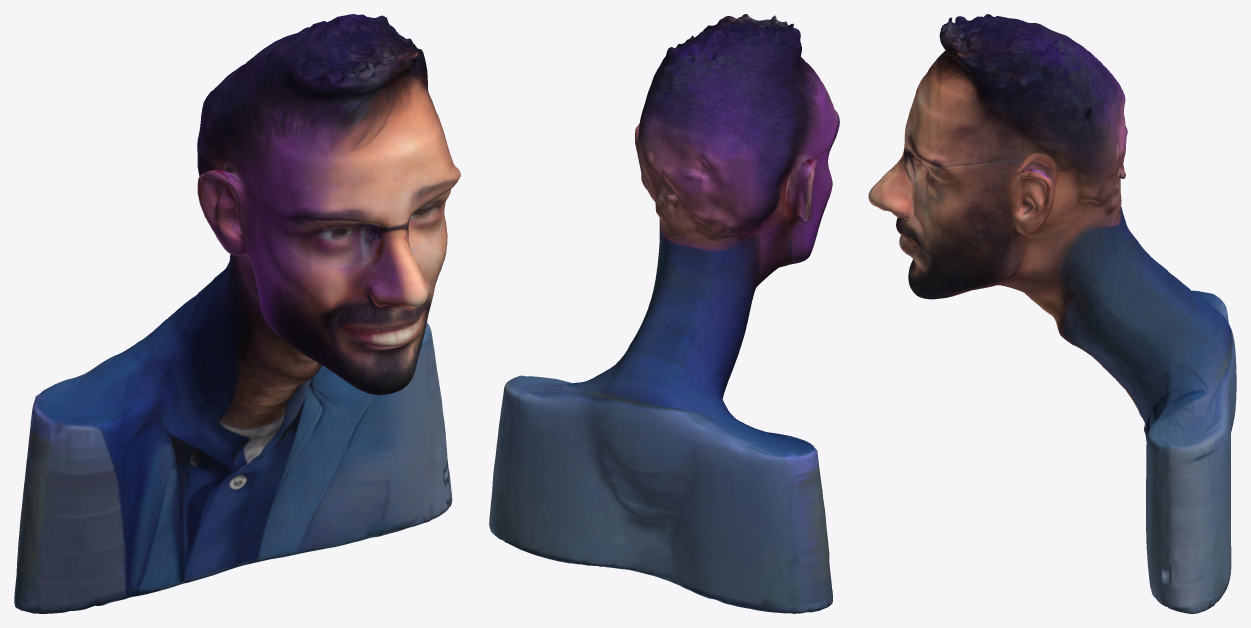
File: vig3d2.glb
3 views of the same model, side by side, from view 1: azimuth 30°, elevation 25°; view 2: azimuth 150°, elevation 25°; view 3: azimuth 270°, elevation 25° (orthographic). The views are drawn at different scales.
Bounding box in the file's own units: 1.47 × 1.97 × 1.29.
1 material, 1 textured.
